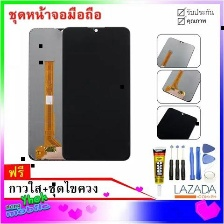phone: (58, 25, 133, 162), (27, 25, 93, 162)
